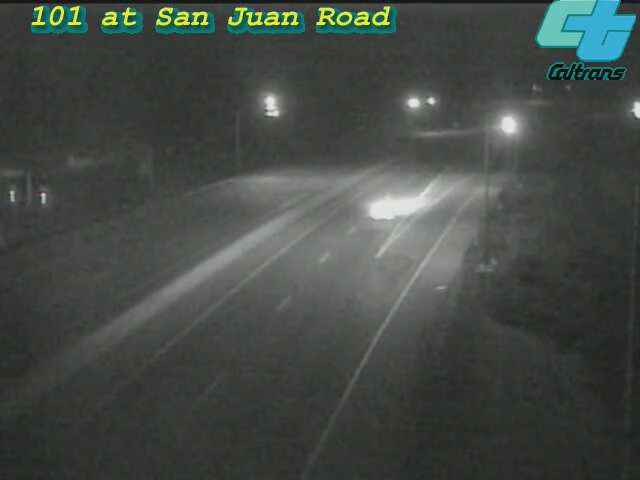vehicle: (343, 170, 423, 250), (481, 100, 531, 150), (611, 84, 640, 134)
